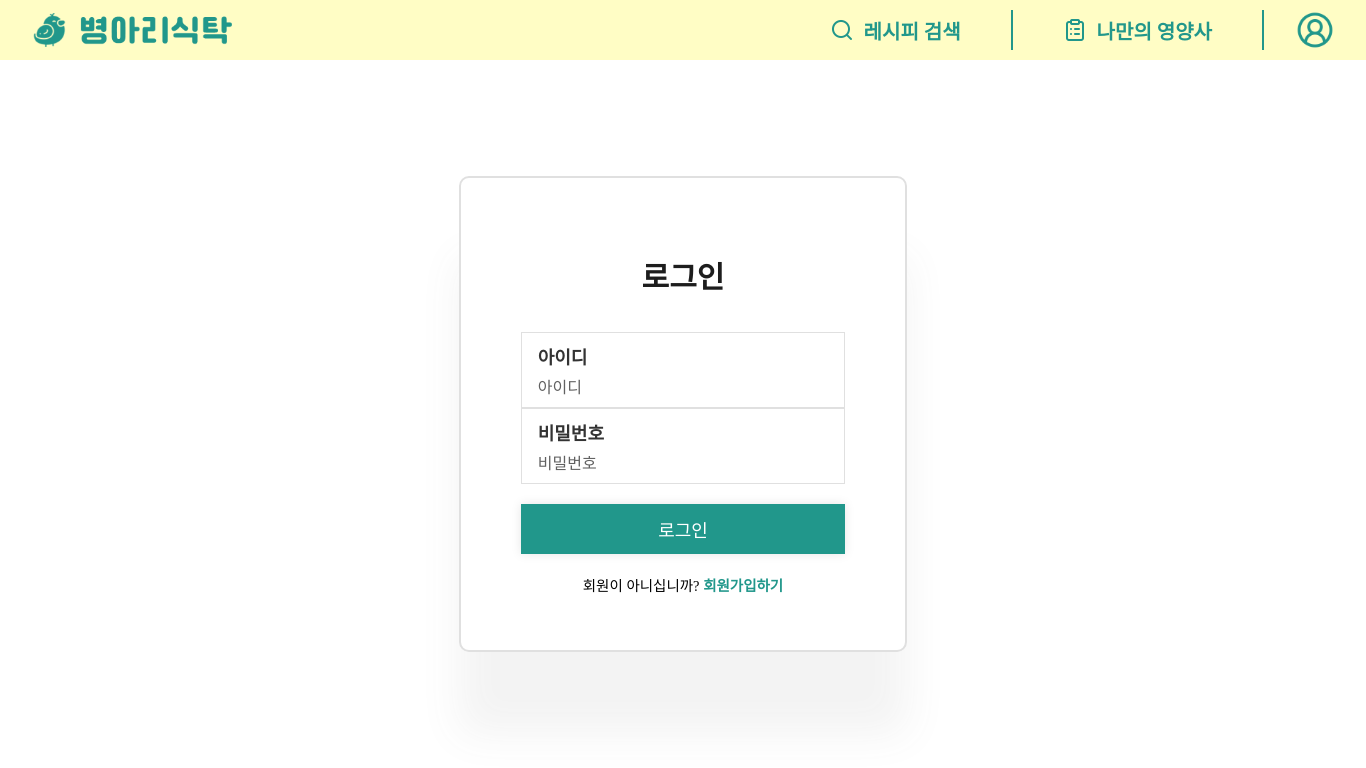
it: 로그인 상태 › 로그인하면 새로고침 없이 헤더 메뉴가 바뀐다
Step 1. Type "chick" into the field with placeholder "아이디" → [641, 393], box left=522, top=379, right=761, bottom=407
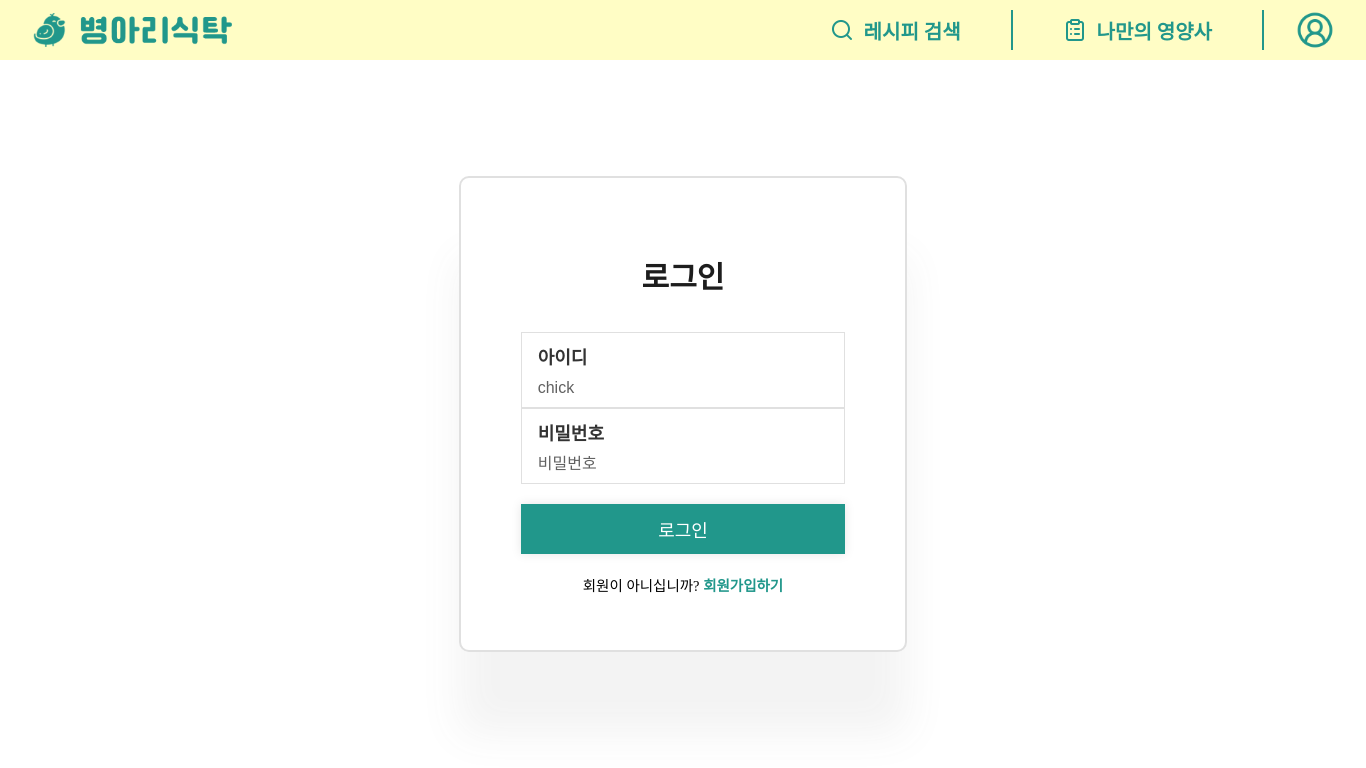
Step 2. Type "password" into the password field with placeholder "비밀번호" → [641, 469], box left=522, top=455, right=761, bottom=483
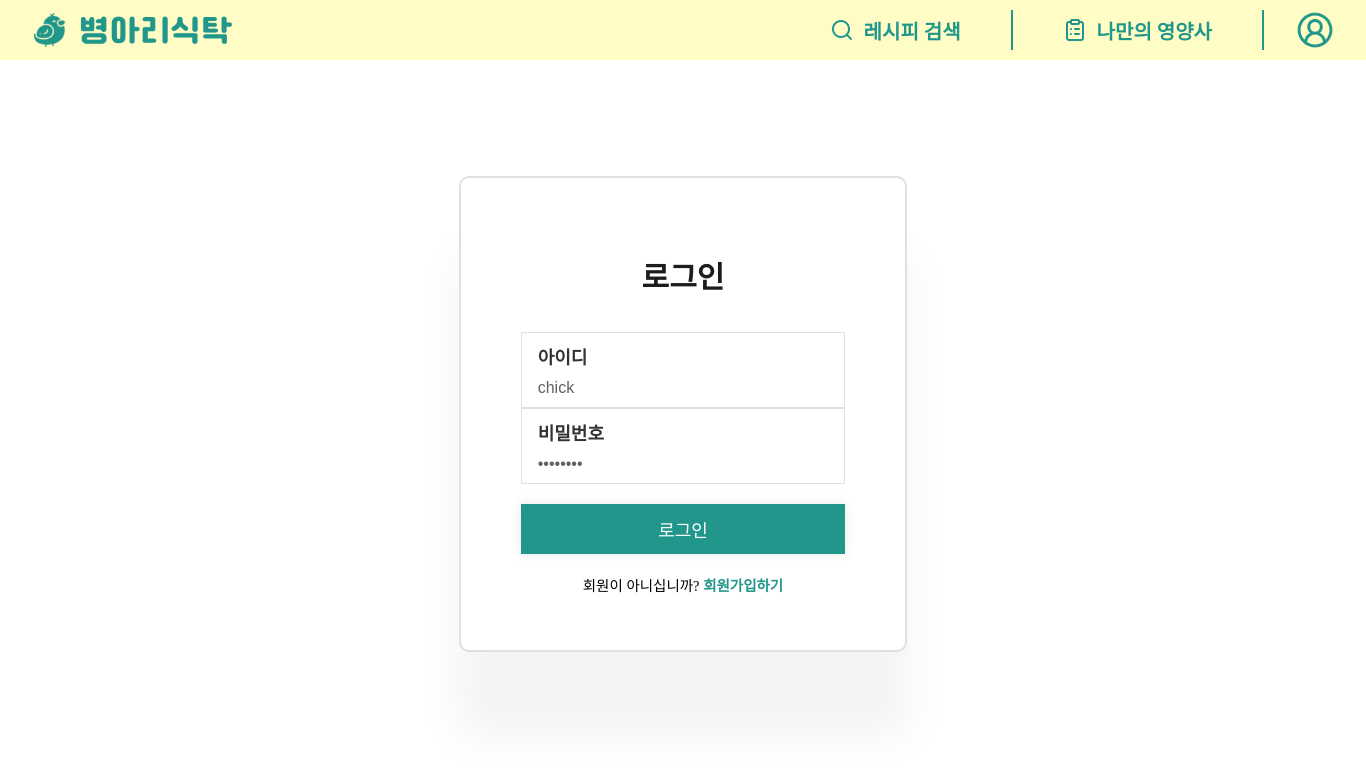
Step 3. Click the button "로그인" → [683, 529], box left=521, top=504, right=845, bottom=554
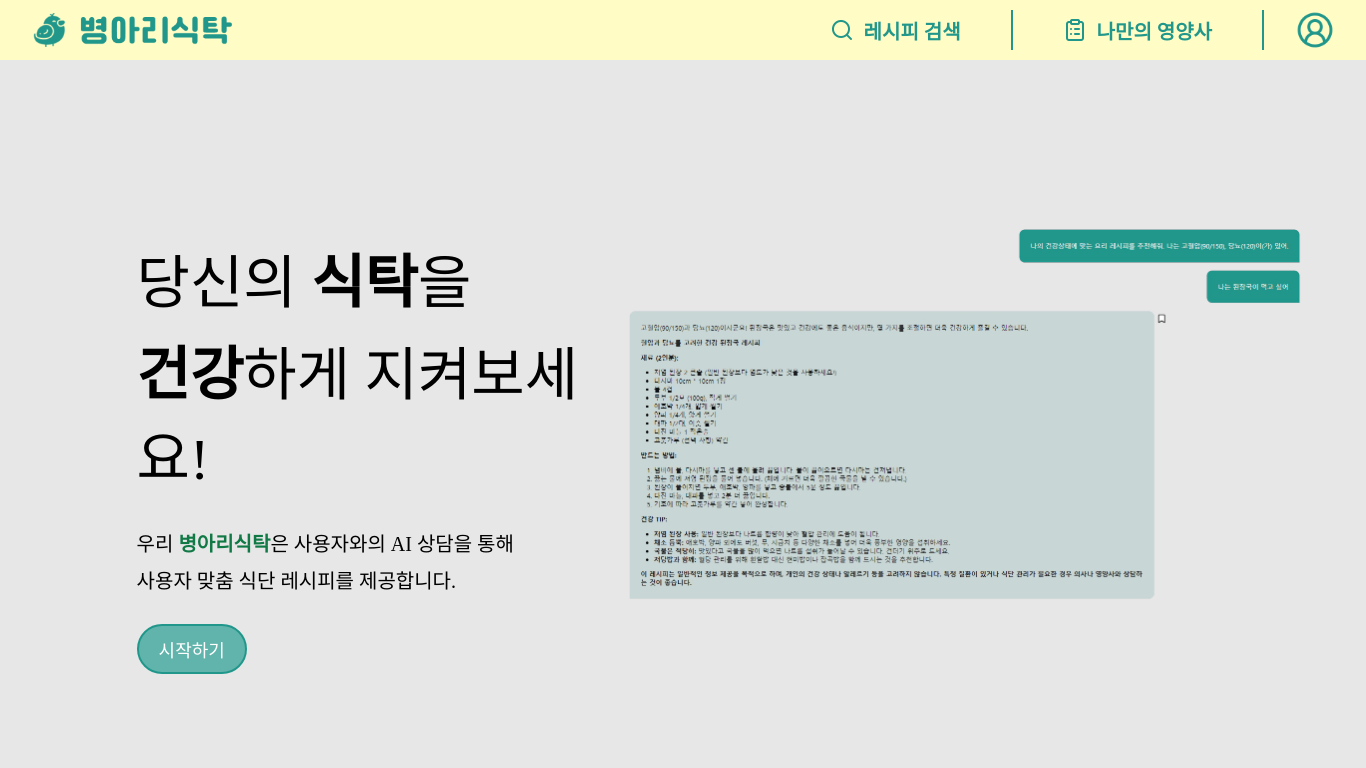
Step 4. Click the picture with alt text "Dropdown" → [1315, 30], box left=1296, top=11, right=1334, bottom=49
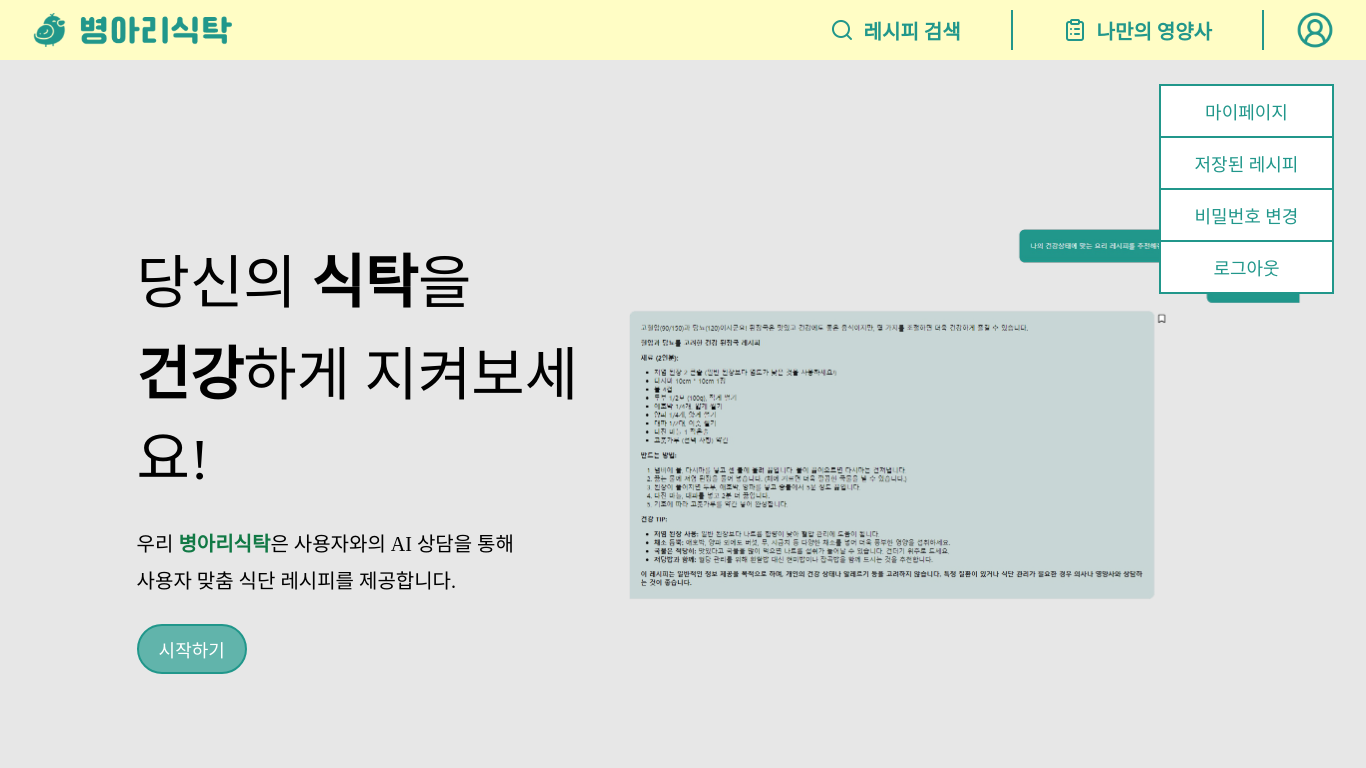
Result: the link "마이페이지" is shown at left=1205, top=103, right=1288, bottom=123
